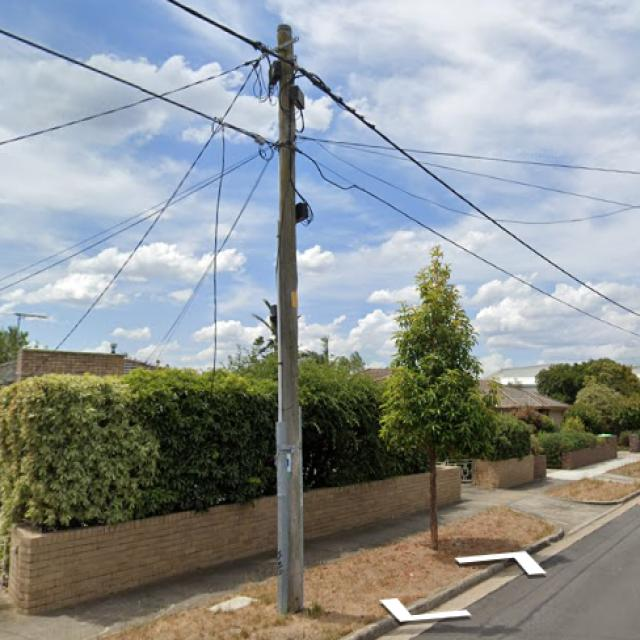timber-pole: (276, 24, 305, 616)
